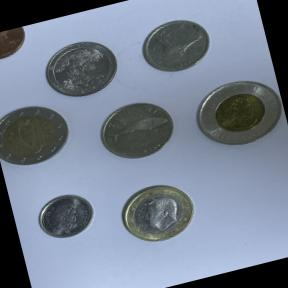coin: (186, 68, 288, 158), (92, 91, 183, 168), (113, 174, 202, 252), (36, 31, 128, 106), (0, 94, 81, 175), (30, 183, 102, 247), (0, 25, 31, 66)
